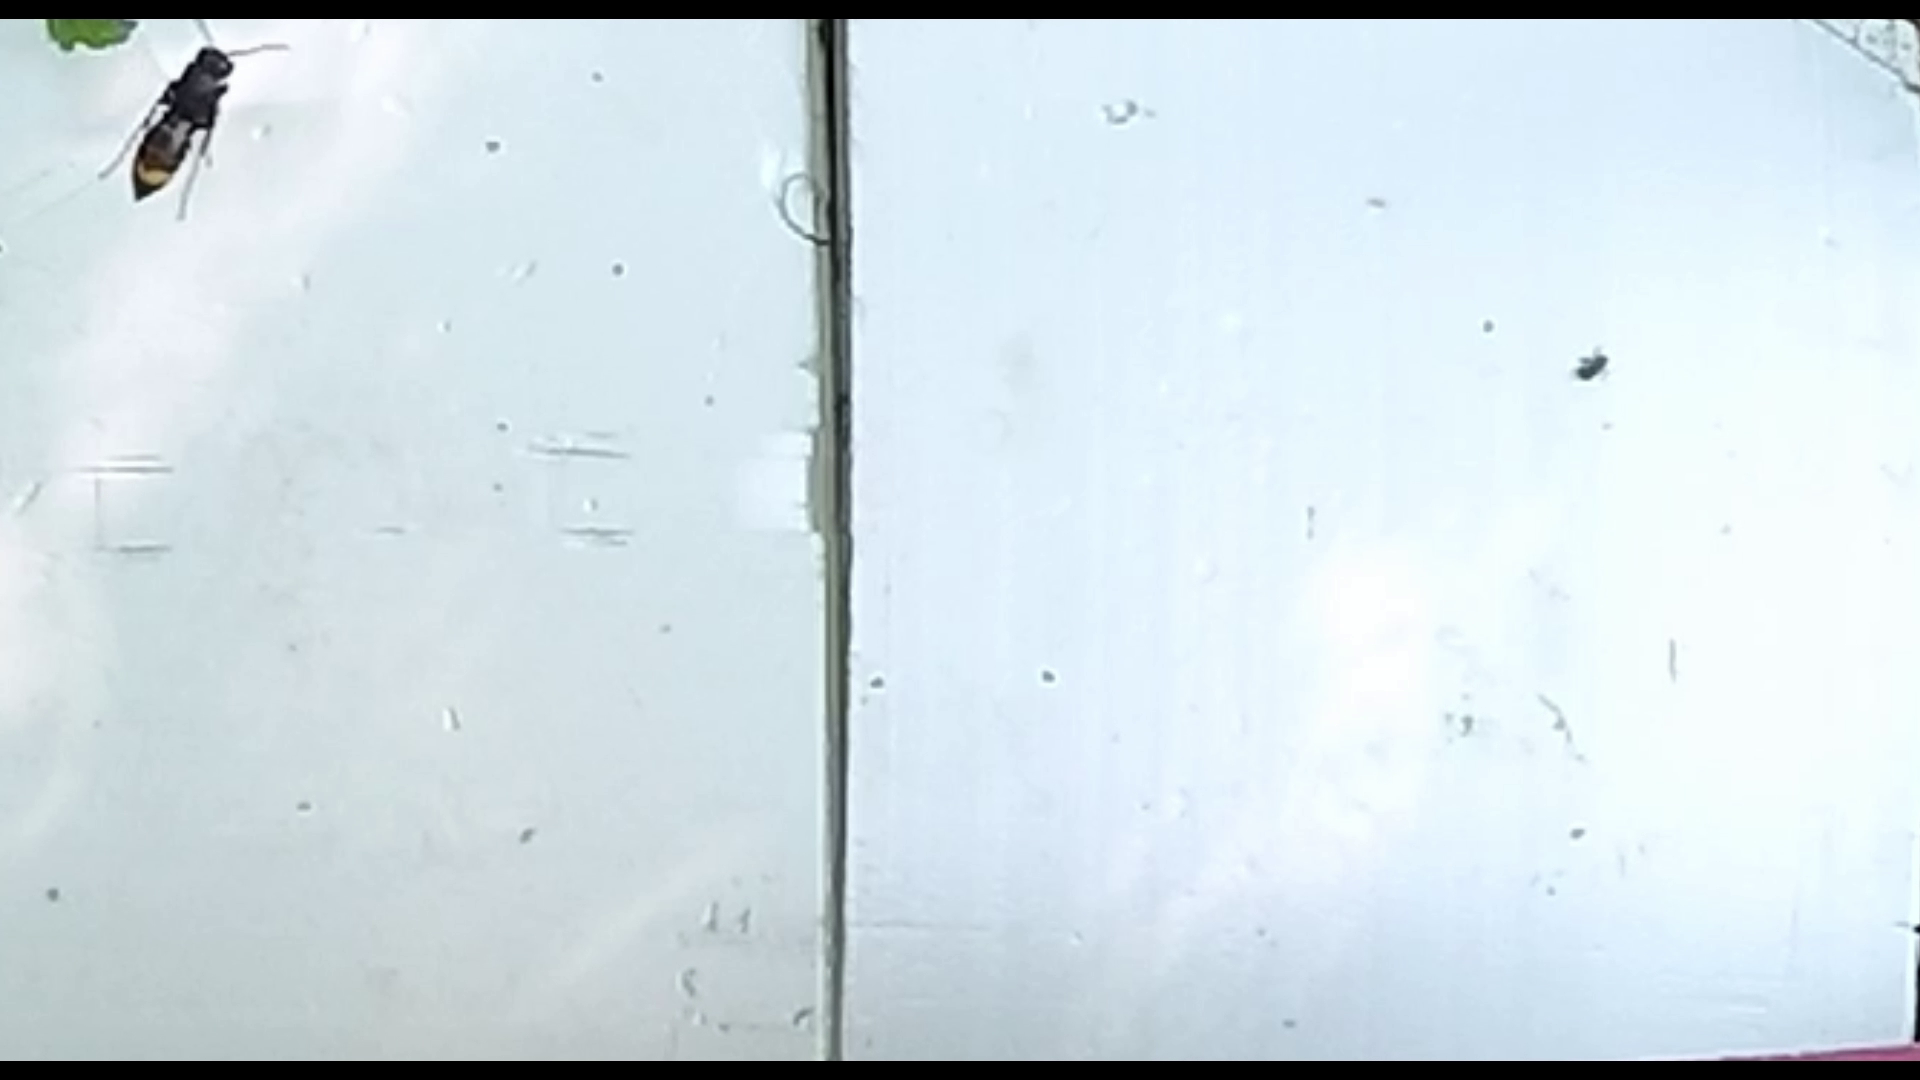Asian_hornets: (95, 21, 282, 216)
